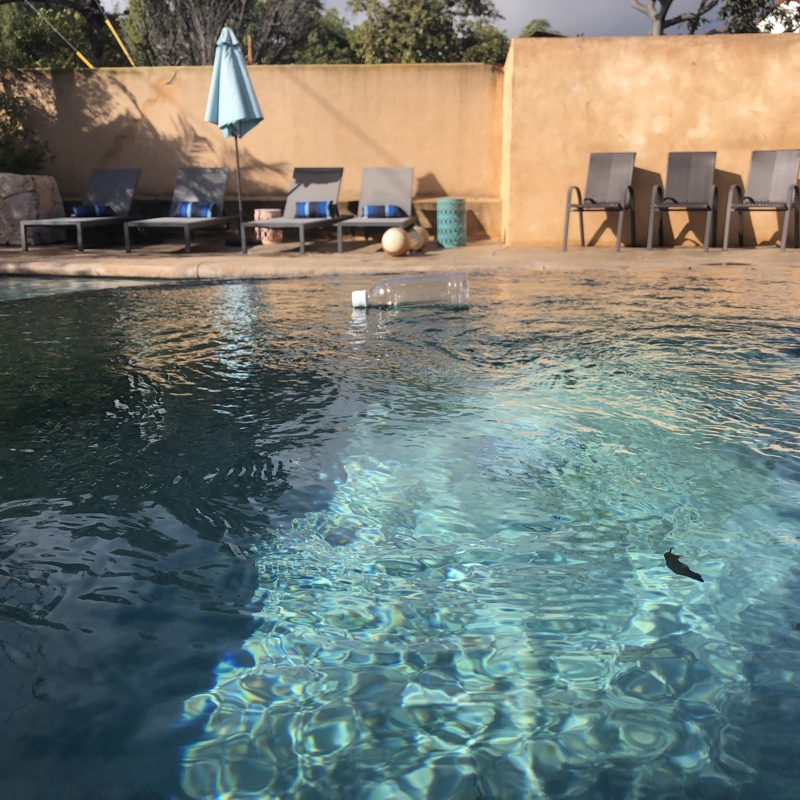Plastic Bottle: (349, 271, 475, 312)
